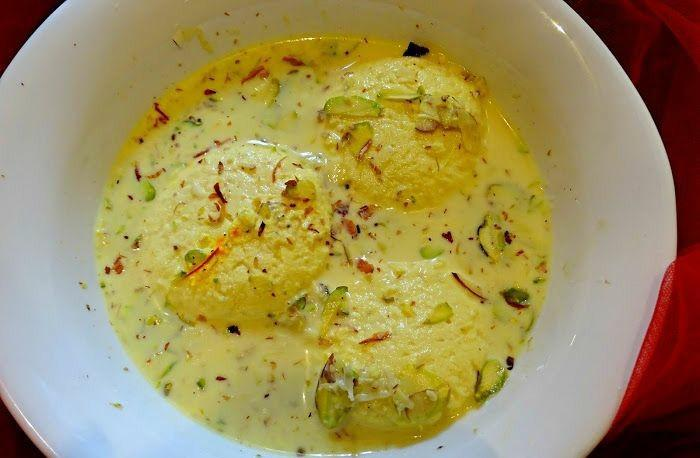RasMalai: (99, 33, 548, 453)
